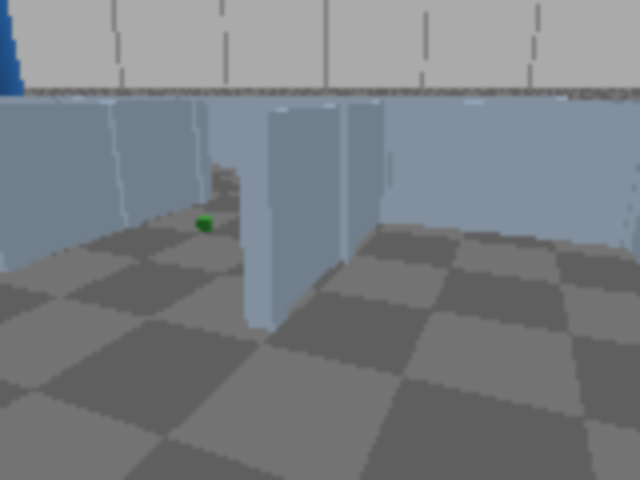person: (0, 0, 29, 167)
